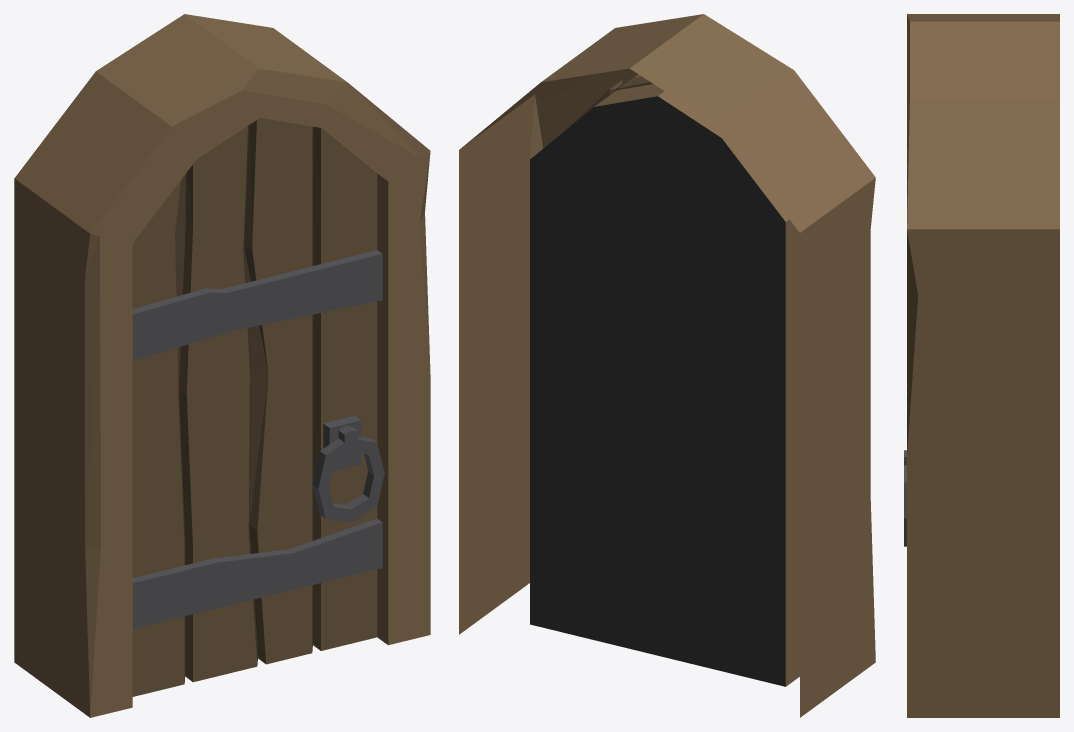
Rendered from SM_Bld_House_Door_01.gltf.
3 renders of one model, left to right at view 1: azimuth 30°, elevation 25°; view 2: azimuth 150°, elevation 25°; view 3: azimuth 270°, elevation 25°, orthographic.
Visible parts, largest first — view 1: SM_Bld_House_Door_01; view 2: SM_Bld_House_Door_01; view 3: SM_Bld_House_Door_01.
Boxes of the visible parts, x1,y1,x2,y2 form: SM_Bld_House_Door_01: [14, 14, 430, 717]; SM_Bld_House_Door_01: [459, 14, 875, 717]; SM_Bld_House_Door_01: [904, 14, 1059, 717].
Bounding box in the file's own units: 1.26 × 2.15 × 0.497.
1 material, 1 textured.
